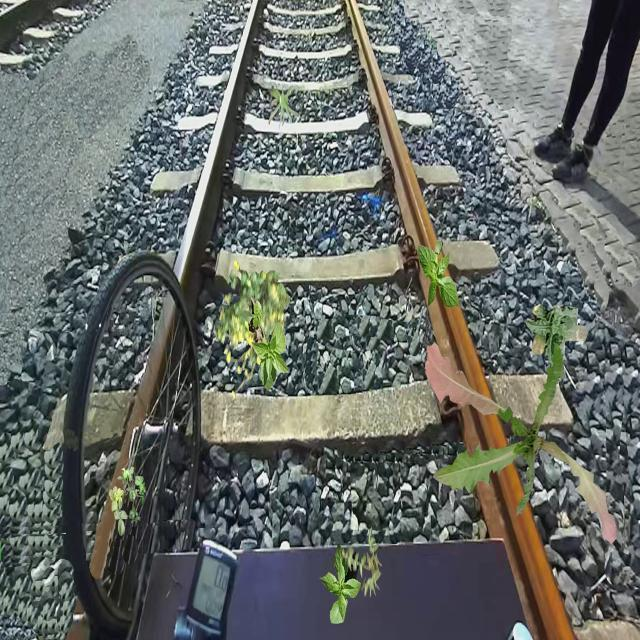Plant: (425, 341, 618, 544), (216, 260, 291, 400), (525, 304, 588, 387), (242, 297, 290, 392), (319, 544, 361, 624), (418, 239, 460, 310), (341, 526, 382, 598), (109, 463, 146, 536), (268, 85, 300, 131)
